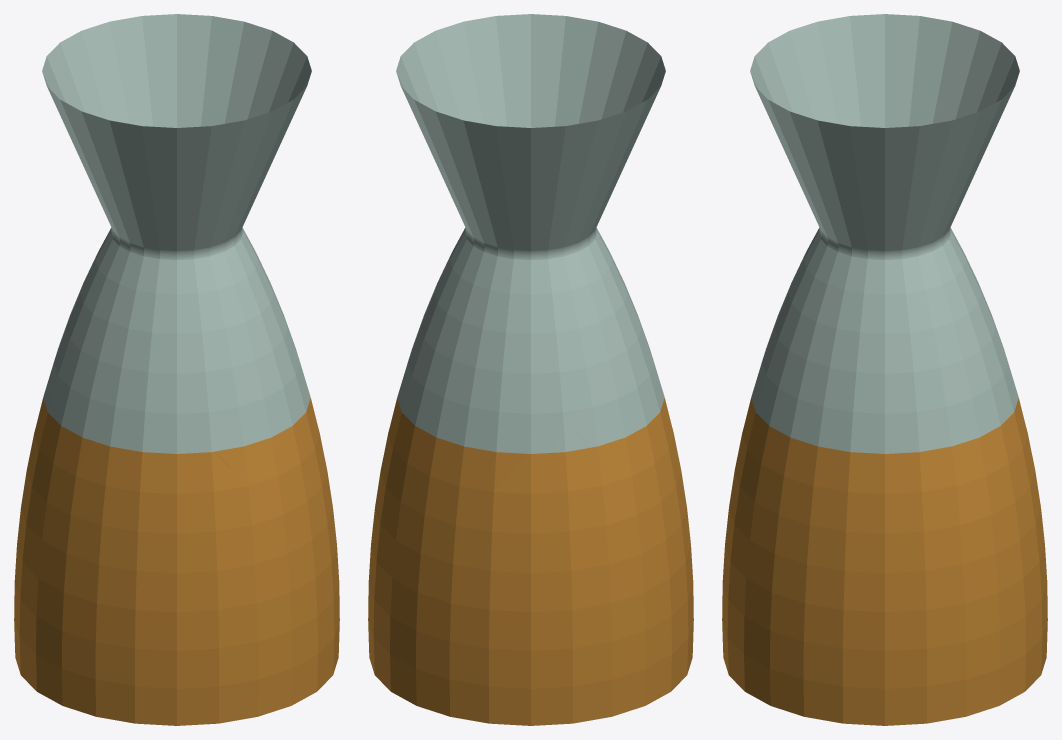
The picture shows the model from 3 angles, left to right: view 1: azimuth 30°, elevation 25°; view 2: azimuth 150°, elevation 25°; view 3: azimuth 270°, elevation 25°; orthographic projection.
Parts seen in each view (by area): view 1: mesh1_mesh1-geometry; view 2: mesh1_mesh1-geometry; view 3: mesh1_mesh1-geometry.
Boxes of the visible parts, x1,y1,x2,y2 form: mesh1_mesh1-geometry: (14, 14, 339, 725); mesh1_mesh1-geometry: (368, 14, 693, 725); mesh1_mesh1-geometry: (722, 14, 1047, 725).
Size of the model in its own units: 0.41 by 0.8147 by 0.41.
